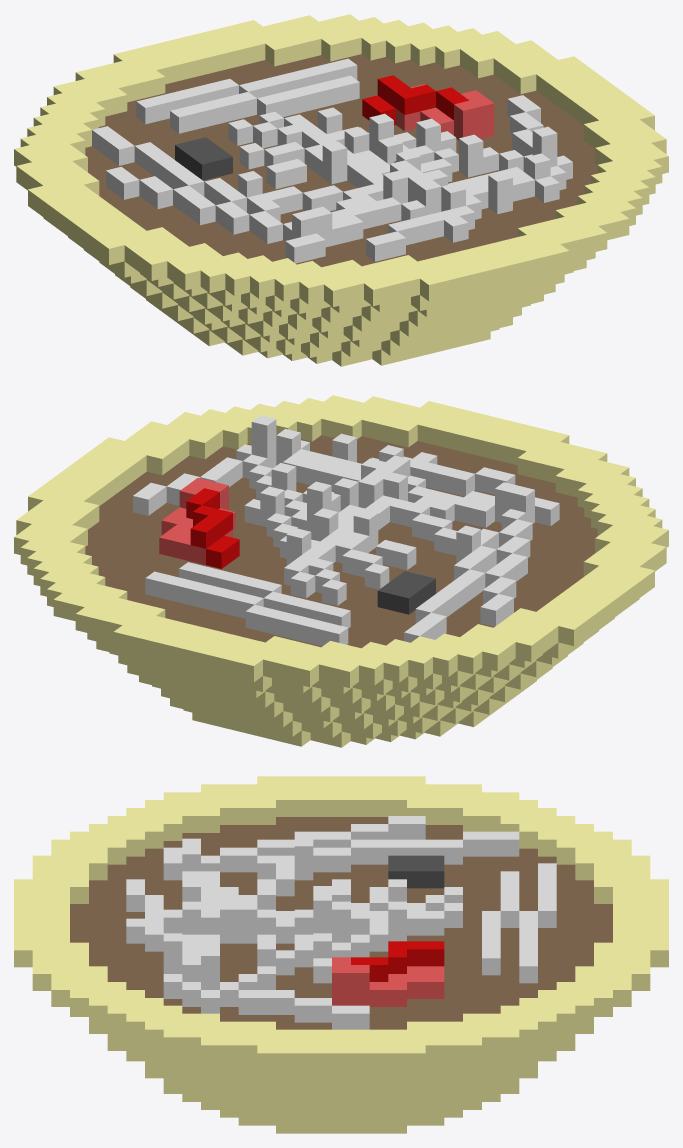
The model's file is Hu tieu Tô.obj.
The picture shows the model from 3 angles, top to bottom: view 1: azimuth 30°, elevation 25°; view 2: azimuth 150°, elevation 25°; view 3: azimuth 270°, elevation 25°; orthographic projection. The views are drawn at different scales.
Bounding box in the file's own units: 3.5 × 1 × 3.5.
Materials: 1 (1 with a texture image).
